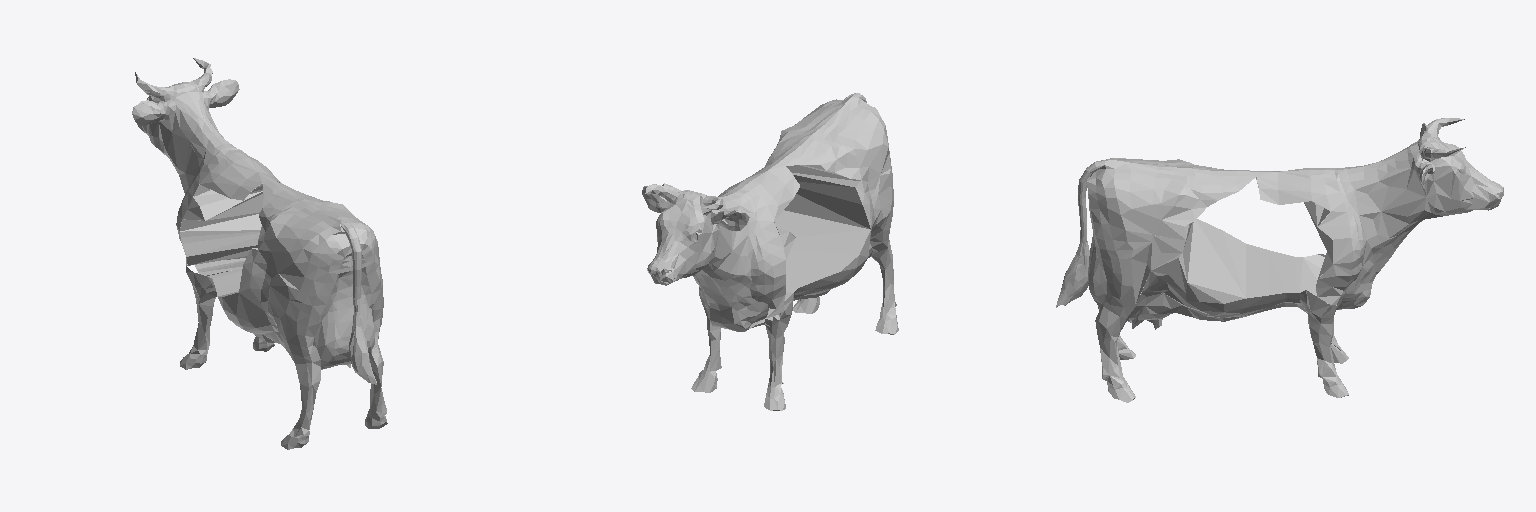
Rendered from cow-parts.obj.
The picture shows the model from 3 angles: view 1: azimuth 30°, elevation 25°; view 2: azimuth 150°, elevation 25°; view 3: azimuth 270°, elevation 25°; orthographic projection.
Parts seen in each view (by area): view 1: cow.002_cow.004__CowHide1, cow.001_cow__CowHide1, cow.003_cow.001_flesh, cow.004_cow.002__CowHide1, cow.002_cow.004__CowUdder1, cow_cow.005__CowTail1, cow.002_cow.004__CowHide1.002, cow.001_cow__CowHorns1.002, cow.002_cow.004__CowHooves1, cow.006_cow.006_flesh, cow.004_cow.002__CowHooves1; view 2: cow.001_cow__CowHide1, cow.002_cow.004__CowHide1, cow.006_cow.006_flesh, cow.004_cow.002__CowHide1, cow.004_cow.002__CowHooves1, cow.002_cow.004__CowHooves1, cow.005_cow.003_flesh, cow.001_cow__CowHorns1.002; view 3: cow.001_cow__CowHide1, cow.002_cow.004__CowHide1, cow.006_cow.006_flesh, cow.004_cow.002__CowHide1, cow_cow.005__CowTail1, cow.002_cow.004__CowHide1.002, cow.004_cow.002__CowUdder1, cow.002_cow.004__CowHooves1, cow.002_cow.004__CowUdder1, cow.003_cow.001_flesh, cow.001_cow__CowHorns1.002, cow.004_cow.002__CowHooves1 (+1 smaller).
Part boxes in pixels (bbox=[...]): cow.002_cow.004__CowHide1: bbox=[258, 180, 386, 435]; cow.001_cow__CowHide1: bbox=[132, 79, 280, 272]; cow.003_cow.001_flesh: bbox=[180, 173, 279, 275]; cow.004_cow.002__CowHide1: bbox=[186, 249, 279, 354]; cow.002_cow.004__CowUdder1: bbox=[314, 304, 374, 369]; cow_cow.005__CowTail1: bbox=[349, 311, 376, 384]; cow.002_cow.004__CowHide1.002: bbox=[263, 181, 361, 311]; cow.001_cow__CowHorns1.002: bbox=[135, 58, 212, 101]; cow.002_cow.004__CowHooves1: bbox=[281, 409, 387, 449]; cow.006_cow.006_flesh: bbox=[186, 248, 350, 367]; cow.004_cow.002__CowHooves1: bbox=[180, 337, 274, 369]; cow.001_cow__CowHide1: bbox=[642, 163, 799, 331]; cow.002_cow.004__CowHide1: bbox=[768, 98, 896, 307]; cow.006_cow.006_flesh: bbox=[745, 172, 870, 331]; cow.004_cow.002__CowHide1: bbox=[703, 180, 886, 387]; cow.004_cow.002__CowHooves1: bbox=[691, 370, 785, 410]; cow.002_cow.004__CowHooves1: bbox=[793, 297, 898, 334]; cow.005_cow.003_flesh: bbox=[784, 176, 869, 308]; cow.001_cow__CowHorns1.002: bbox=[645, 183, 723, 213]; cow.001_cow__CowHide1: bbox=[1257, 123, 1503, 310]; cow.002_cow.004__CowHide1: bbox=[1086, 158, 1256, 380]; cow.006_cow.006_flesh: bbox=[1136, 219, 1324, 316]; cow.004_cow.002__CowHide1: bbox=[1136, 235, 1337, 376]; cow_cow.005__CowTail1: bbox=[1056, 241, 1089, 307]; cow.002_cow.004__CowHide1.002: bbox=[1078, 160, 1256, 257]; cow.004_cow.002__CowUdder1: bbox=[1132, 280, 1174, 329]; cow.002_cow.004__CowHooves1: bbox=[1107, 338, 1135, 402]; cow.002_cow.004__CowUdder1: bbox=[1088, 237, 1137, 322]; cow.003_cow.001_flesh: bbox=[1256, 177, 1336, 305]; cow.001_cow__CowHorns1.002: bbox=[1421, 118, 1465, 161]; cow.004_cow.002__CowHooves1: bbox=[1320, 340, 1348, 397].
Bounding box in the file's own units: 0.5958 × 1.12 × 1.85.